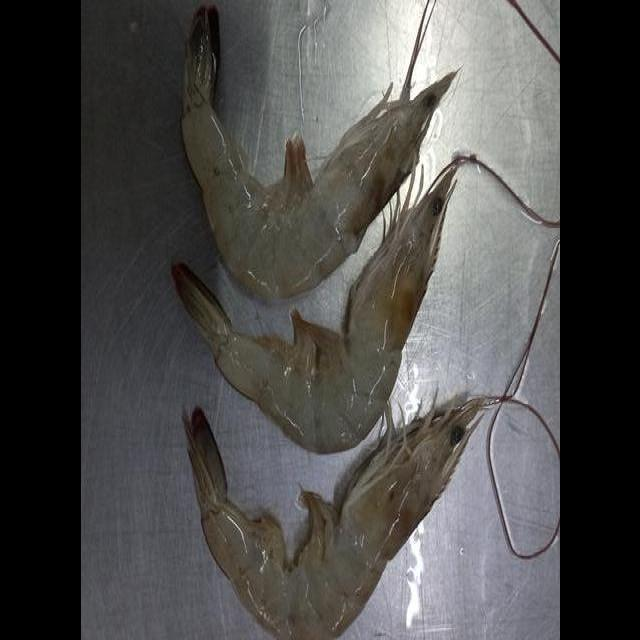shrimp: (171, 167, 456, 453), (182, 7, 455, 298), (186, 398, 488, 640)
